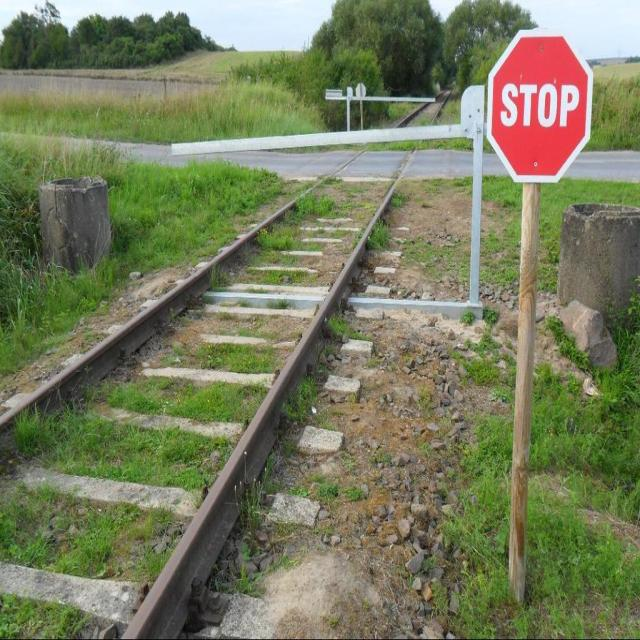Stop-sign: (484, 28, 592, 186)
